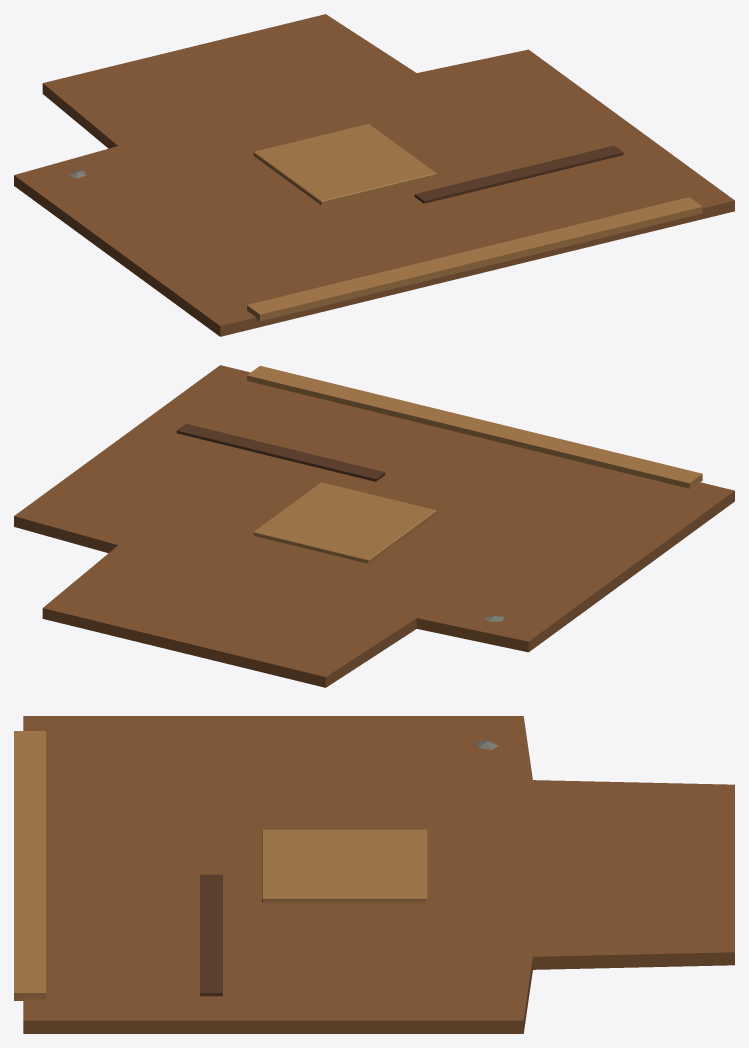
The picture shows the model from 3 angles, top to bottom: view 1: azimuth 30°, elevation 25°; view 2: azimuth 150°, elevation 25°; view 3: azimuth 270°, elevation 25°; orthographic projection. The views are drawn at different scales.
Parts seen in each view (by area): view 1: WK_TownHardscape_TH09_LOD1; view 2: WK_TownHardscape_TH09_LOD1; view 3: WK_TownHardscape_TH09_LOD1.
Part boxes in pixels (x1,y1,x2,y2): WK_TownHardscape_TH09_LOD1: (14, 14, 734, 336); WK_TownHardscape_TH09_LOD1: (14, 365, 734, 687); WK_TownHardscape_TH09_LOD1: (14, 716, 734, 1033).
Bounding box in the file's own units: 4 × 0.12 × 4.
